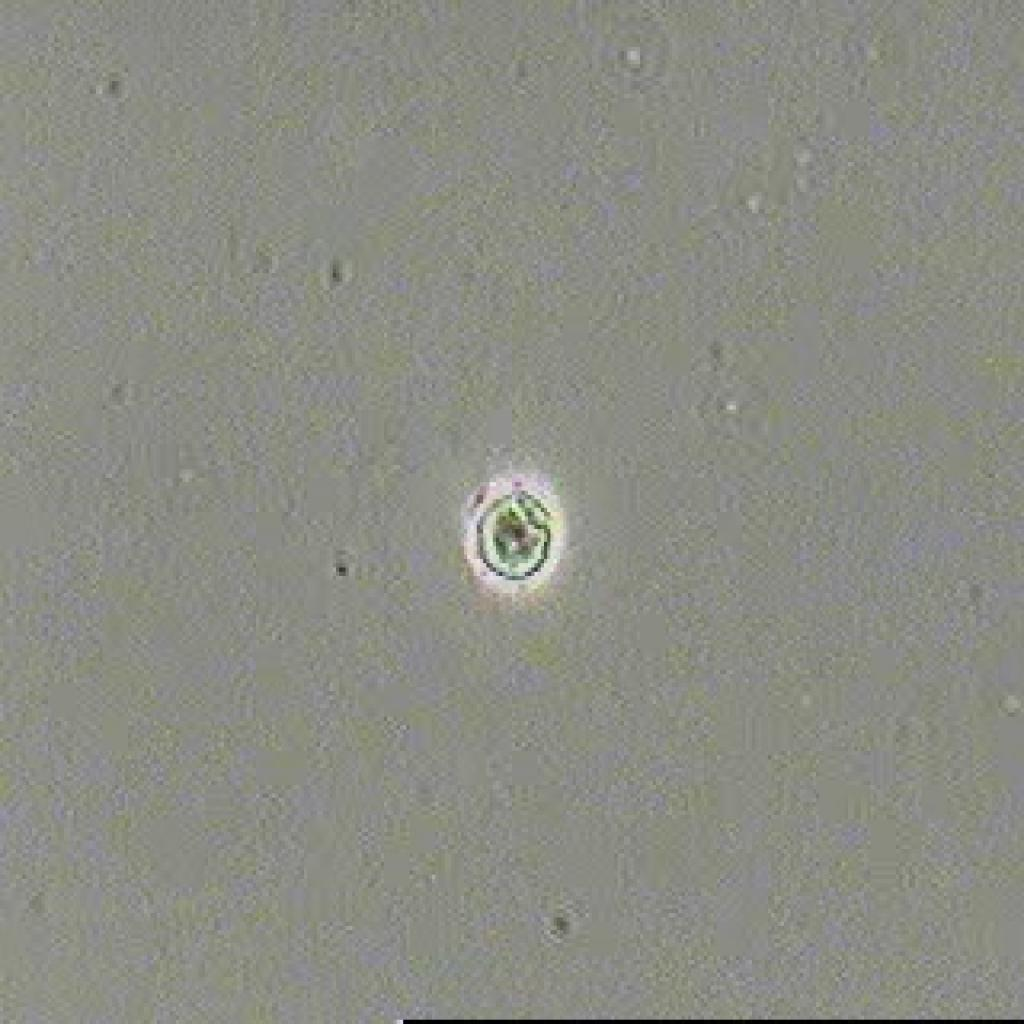Flagellates: (451, 474, 573, 602)
